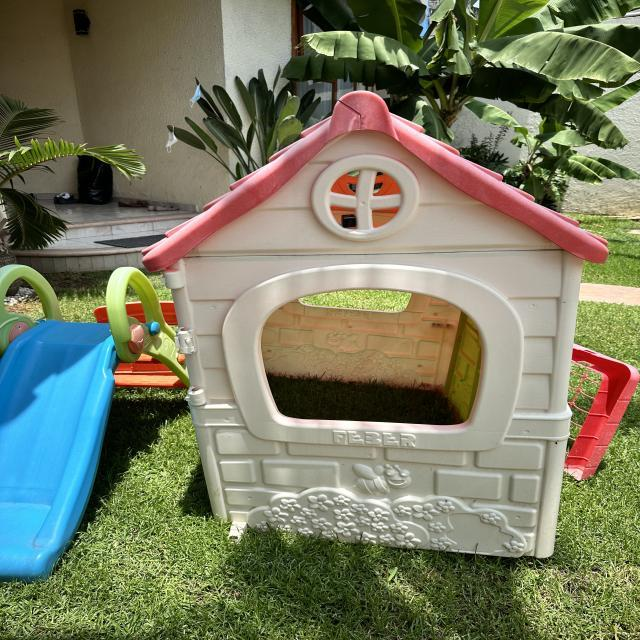hidden camera: (348, 221, 353, 225)
